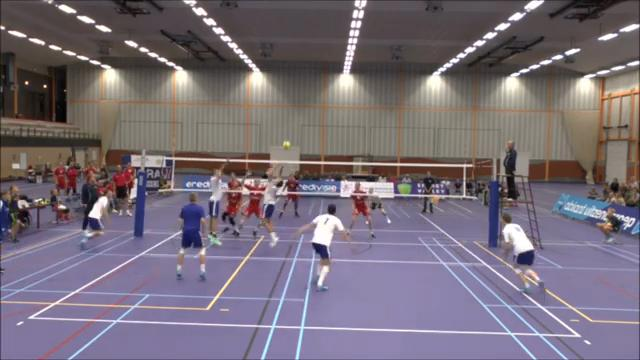alzata: (257, 155, 291, 255)
